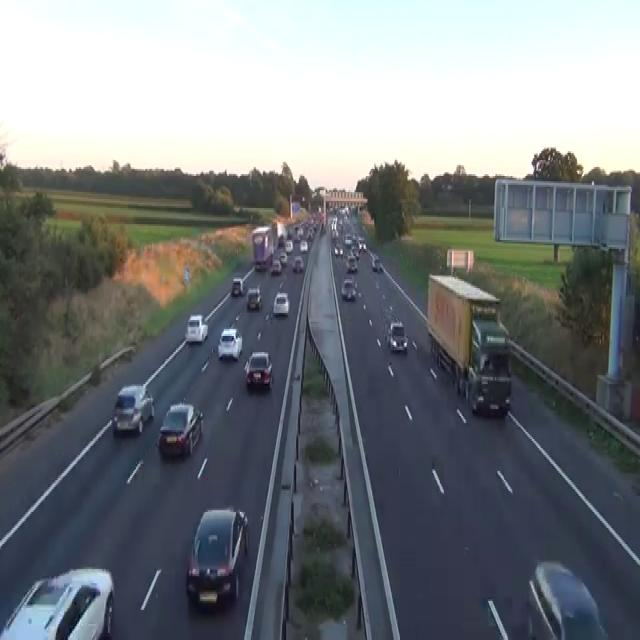Car: (0, 567, 114, 638), (186, 506, 249, 610), (526, 560, 609, 638), (467, 352, 511, 416), (157, 402, 203, 457), (112, 382, 155, 436), (451, 598, 509, 638), (244, 350, 273, 390), (486, 598, 509, 638), (217, 327, 242, 361), (185, 313, 208, 343), (387, 320, 408, 352), (272, 292, 289, 316), (246, 284, 261, 310), (341, 276, 357, 300), (380, 304, 394, 322), (231, 277, 243, 295), (346, 256, 358, 272), (371, 254, 381, 272), (292, 256, 303, 272), (270, 260, 281, 276), (333, 242, 343, 256), (278, 251, 287, 265), (254, 260, 265, 270), (284, 240, 293, 252), (344, 233, 353, 245), (358, 237, 366, 250), (277, 233, 285, 245), (300, 240, 308, 251), (331, 228, 338, 238), (294, 234, 300, 242)
Truck: (426, 272, 512, 416), (251, 224, 273, 270)
